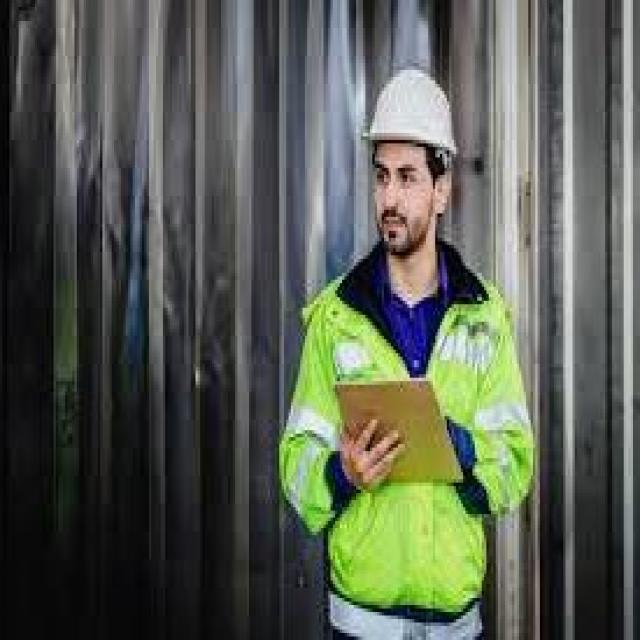reflective_jacket: (270, 265, 547, 622)
safety_helmet: (355, 59, 470, 178)
